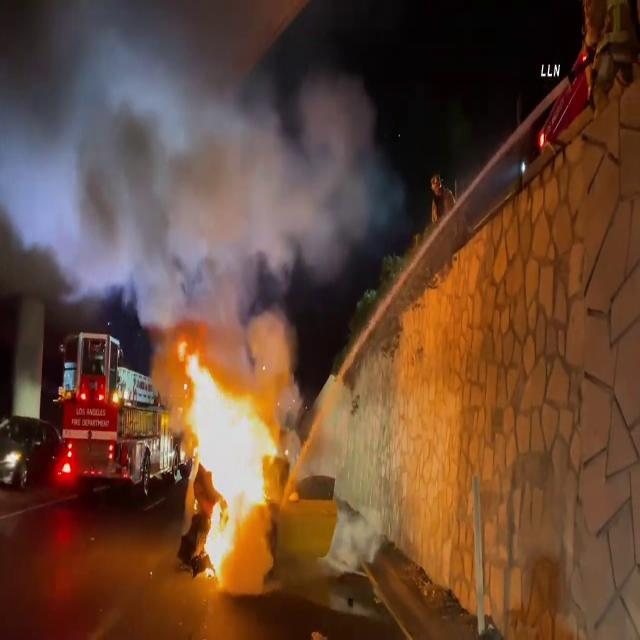Fire: (170, 337, 284, 576)
Smoke: (0, 1, 402, 297)
